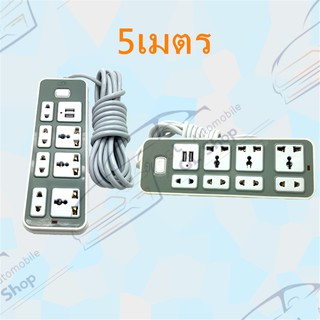Three_eye_plug: (131, 132, 318, 204), (22, 72, 99, 241)
